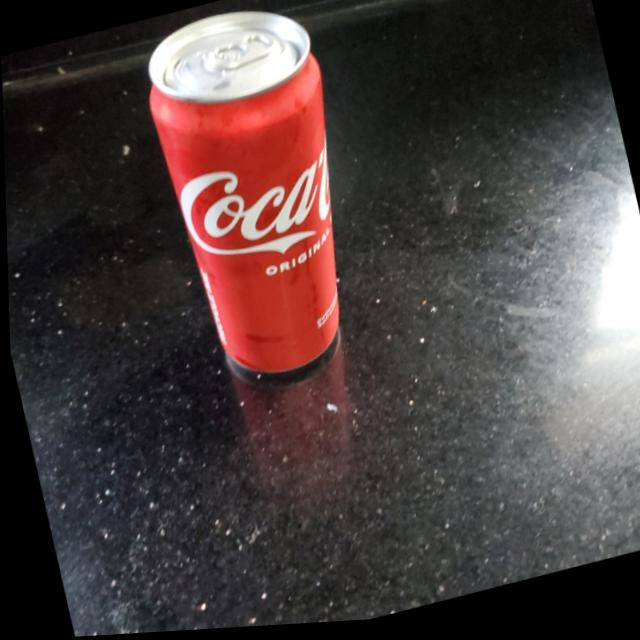coke: (135, 0, 384, 390)
